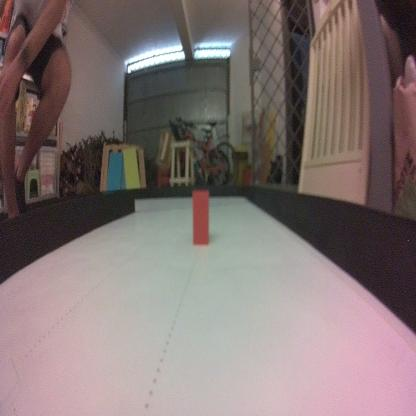red: (192, 191, 210, 244)
